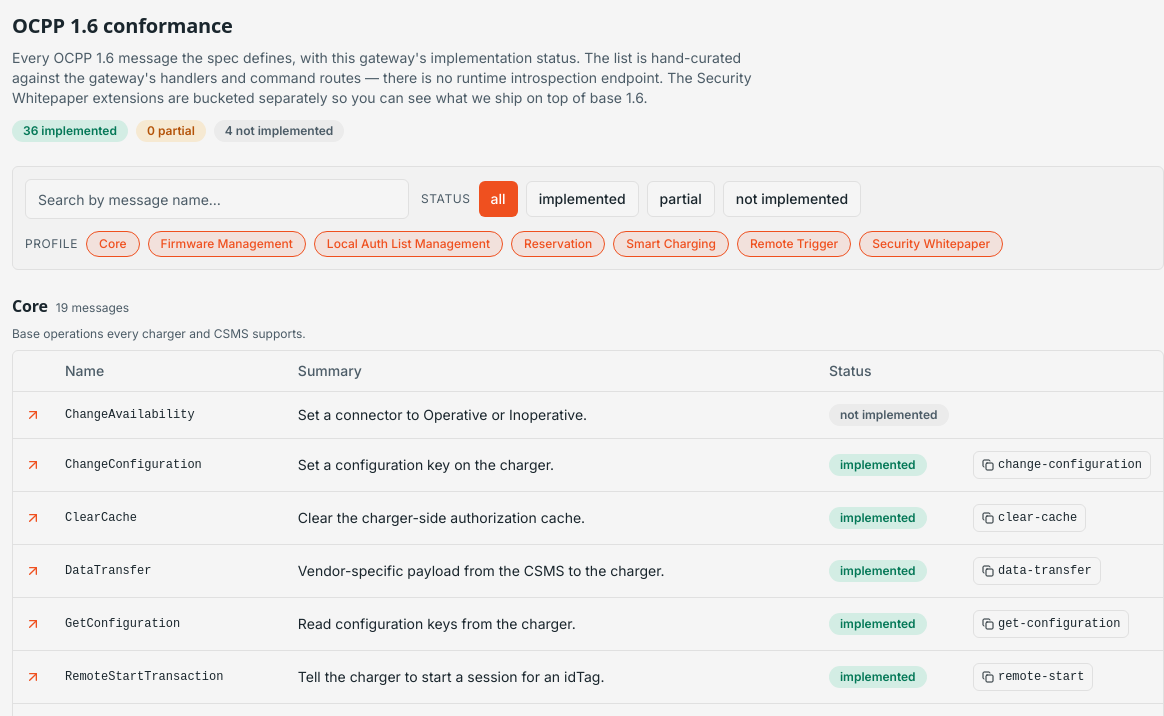
Test case: OcppConformancePage — filters › renders a friendly empty message when filters cull every row
The image size is (1164, 716).
Type "definitely-not-an-ocpp-message" into the search field named "Search OCPP messages by name" at (217, 199), box [25, 179, 409, 219]
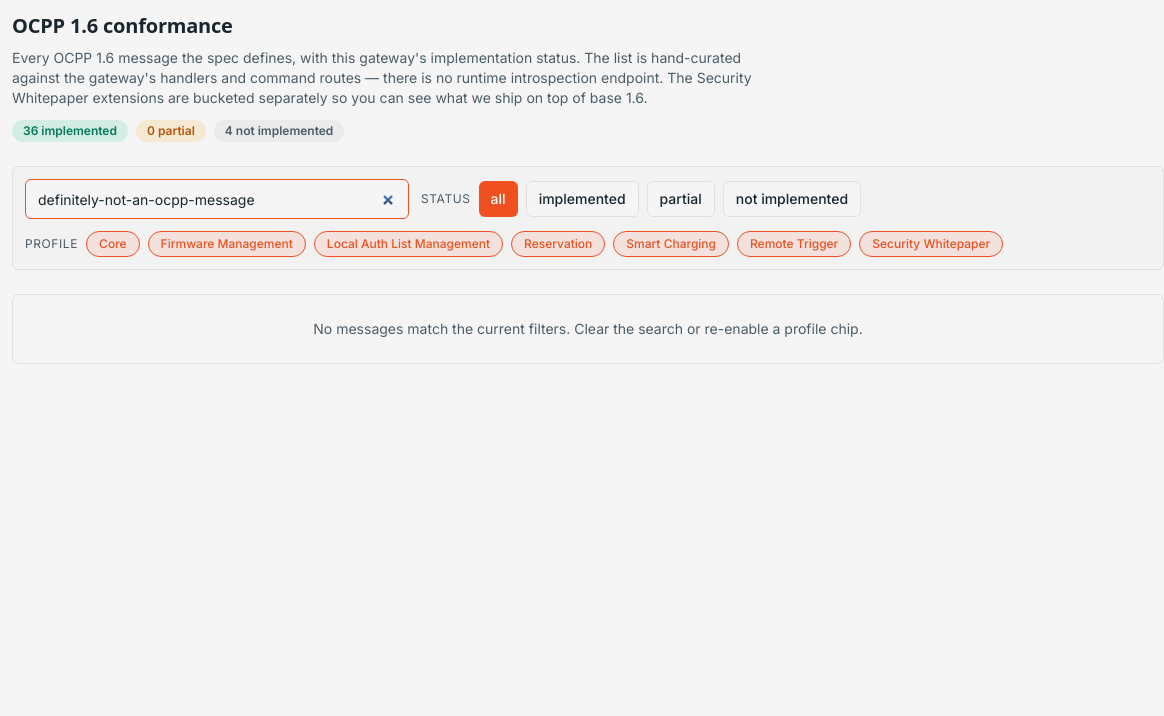
Expected: the text "No messages match the current filters" is shown, [313, 320, 863, 337]
